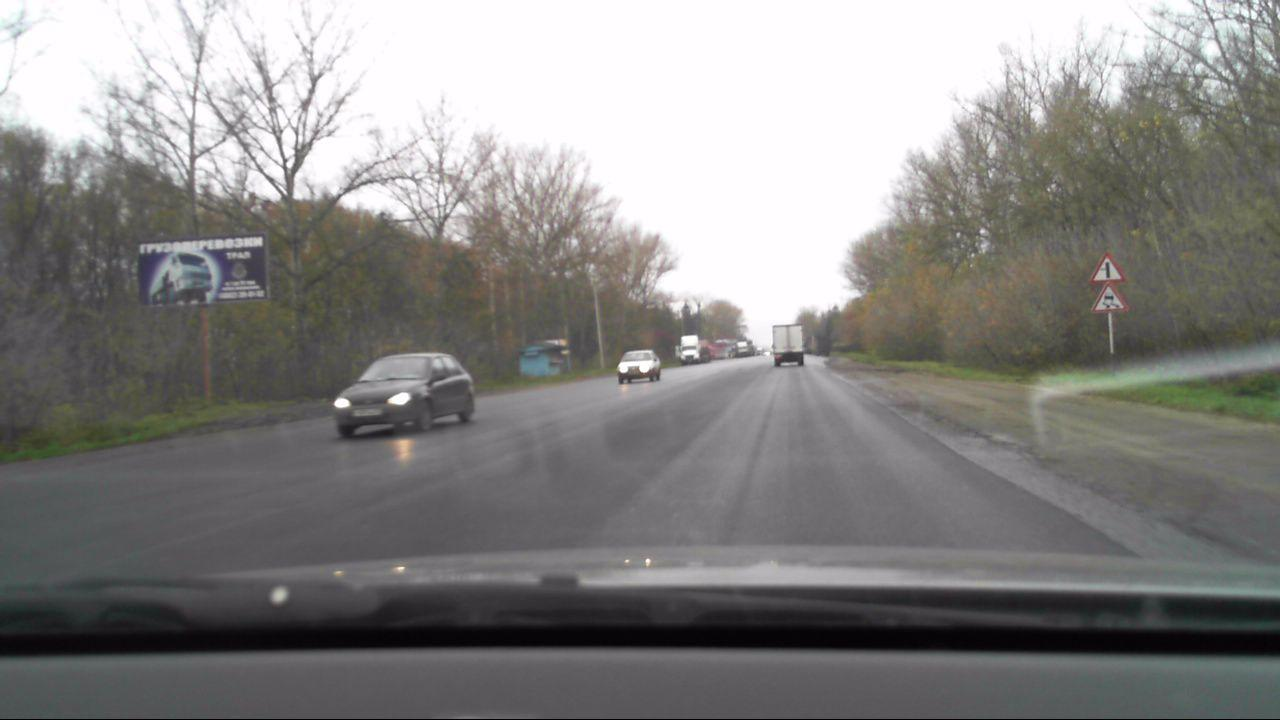1_15: (1091, 284, 1126, 311)
2_3_3: (1088, 249, 1127, 282)
